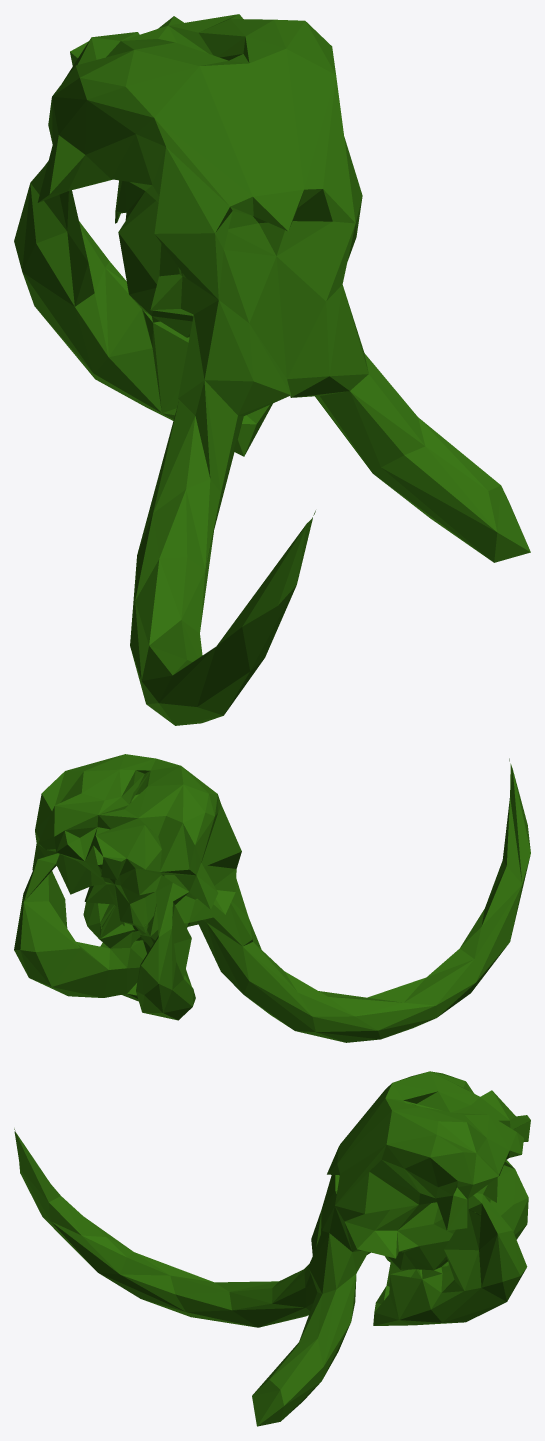
Rendered from SkeletonMammothHeadBroken.fbx.
3 renders of one model, top to bottom at view 1: azimuth 30°, elevation 25°; view 2: azimuth 150°, elevation 25°; view 3: azimuth 270°, elevation 25°, orthographic. The views are drawn at different scales.
Parts seen in each view (by area): view 1: SkeletonMammothHeadBroken; view 2: SkeletonMammothHeadBroken; view 3: SkeletonMammothHeadBroken.
Boxes of the visible parts, bbox=[...] form: SkeletonMammothHeadBroken: bbox=[14, 14, 530, 725]; SkeletonMammothHeadBroken: bbox=[14, 754, 530, 1042]; SkeletonMammothHeadBroken: bbox=[14, 1071, 530, 1426].
Bounding box in the file's own units: 273 × 265 × 424.
